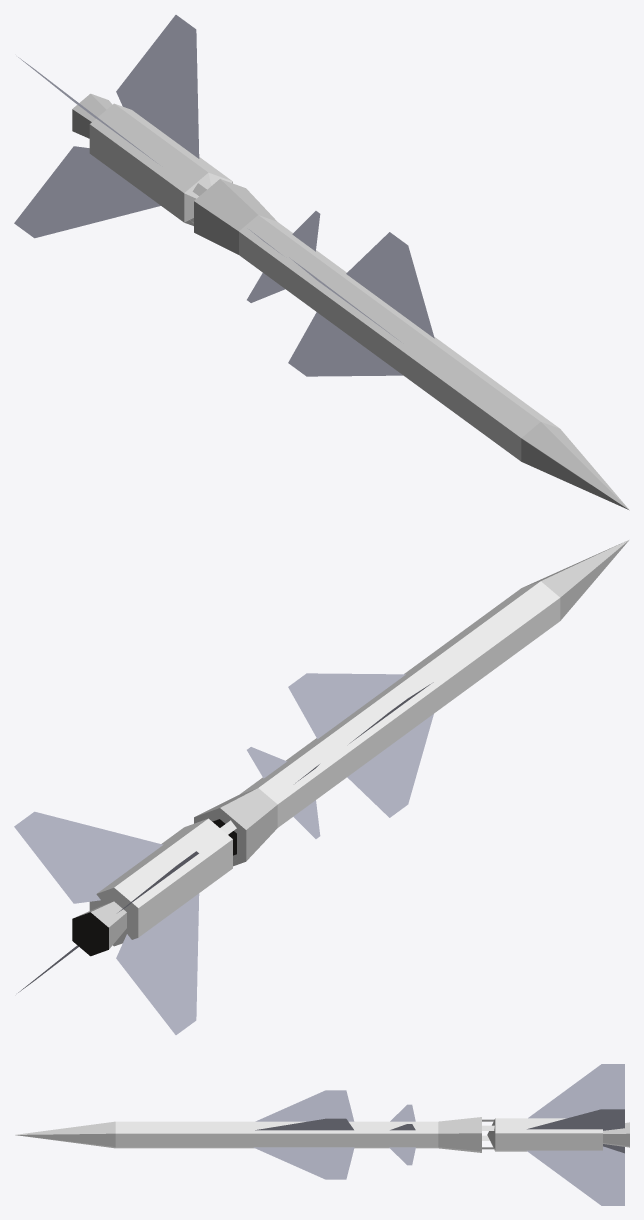
The picture shows the model from 3 angles, top to bottom: view 1: azimuth 30°, elevation 25°; view 2: azimuth 150°, elevation 25°; view 3: azimuth 270°, elevation 25°; orthographic projection. The views are drawn at different scales.
Parts seen in each view (by area): view 1: V-750, Booster; view 2: V-750, Booster; view 3: V-750, Booster.
Part boxes in pixels (x1,y1,x2,y2): V-750: (194,179,629,510); Booster: (14,15,232,238); V-750: (194,539,629,866); Booster: (14,811,237,1034); V-750: (15,1090,481,1179); Booster: (482,1064,629,1205).
Bounding box in the file's own units: 1.84 × 1.84 × 10.61.
